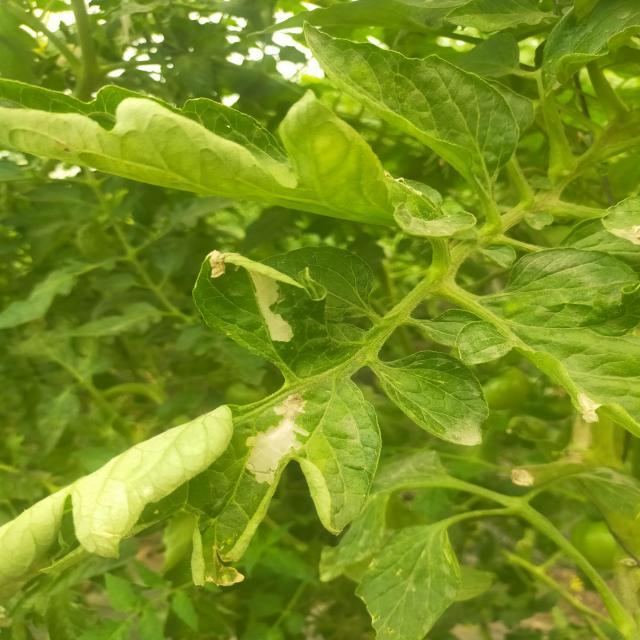Tuta absoluta: (230, 386, 325, 489), (249, 264, 294, 345)
